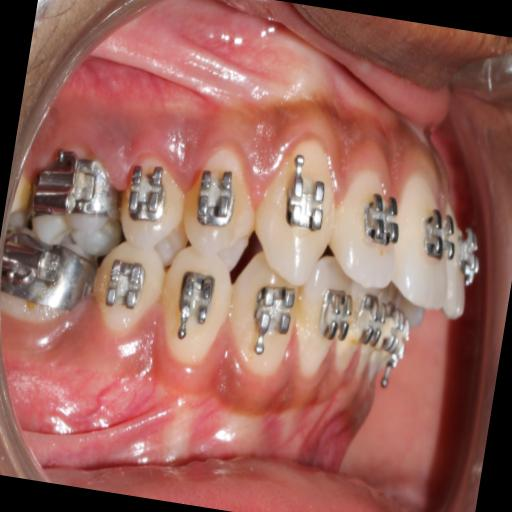correct_brace: (176, 152, 260, 272), (417, 202, 464, 270), (280, 169, 330, 232), (356, 184, 404, 246)
incorrect_brace: (326, 166, 408, 296), (190, 166, 237, 234)
